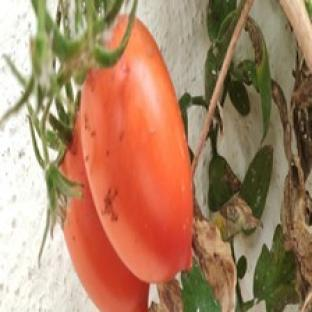Tomato: (81, 20, 193, 282), (60, 116, 149, 311)
